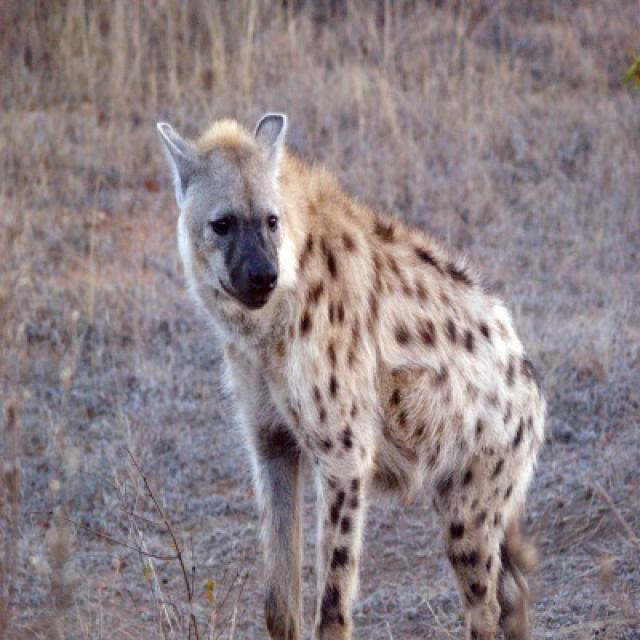hyena: (157, 114, 544, 638)
